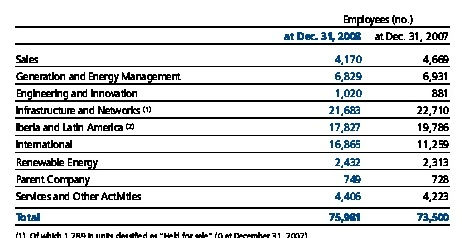table: (0, 0, 462, 238)
